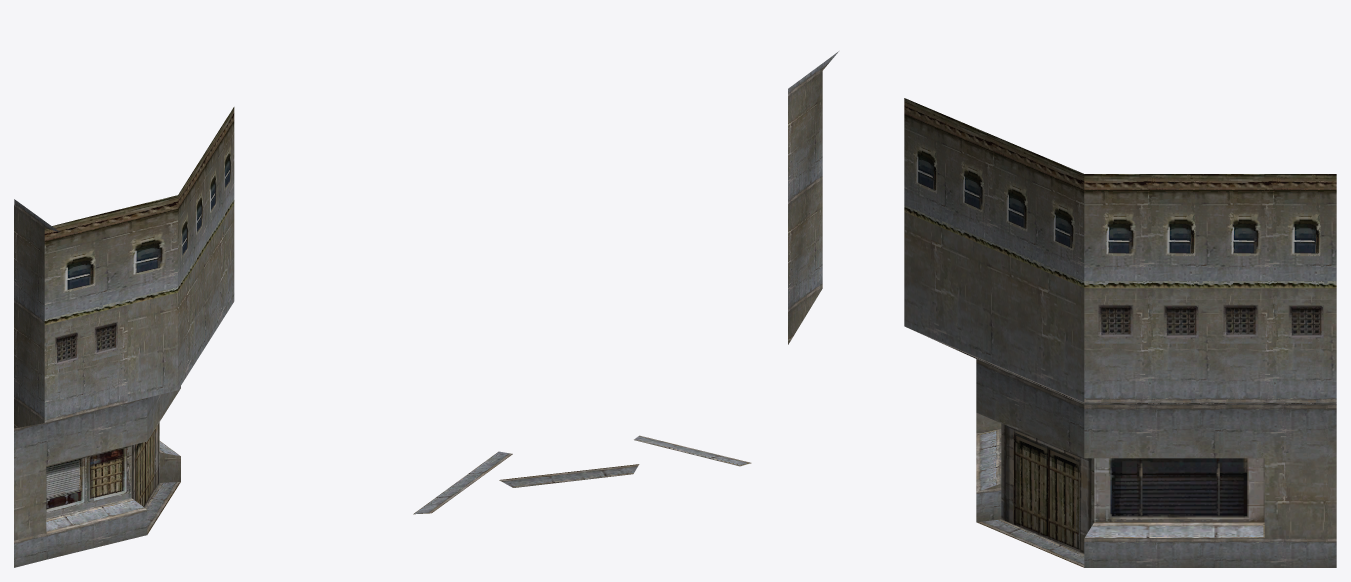
Rendered from M2Zone2_CornerShop.glb.
The picture shows the model from 3 angles, left to right: view 1: azimuth 30°, elevation 25°; view 2: azimuth 150°, elevation 25°; view 3: azimuth 270°, elevation 25°; orthographic projection. The views are drawn at different scales.
Visible parts, largest first — view 1: M2ZONE2_CORNERSHOP; view 2: M2ZONE2_CORNERSHOP; view 3: M2ZONE2_CORNERSHOP.
Part boxes in pixels (x1,y1,x2,y2): M2ZONE2_CORNERSHOP: (14,107,234,567); M2ZONE2_CORNERSHOP: (413,51,838,514); M2ZONE2_CORNERSHOP: (904,98,1336,567).
Size of the model in its own units: 11 by 13.26 by 13.
6 materials, 6 textured.
